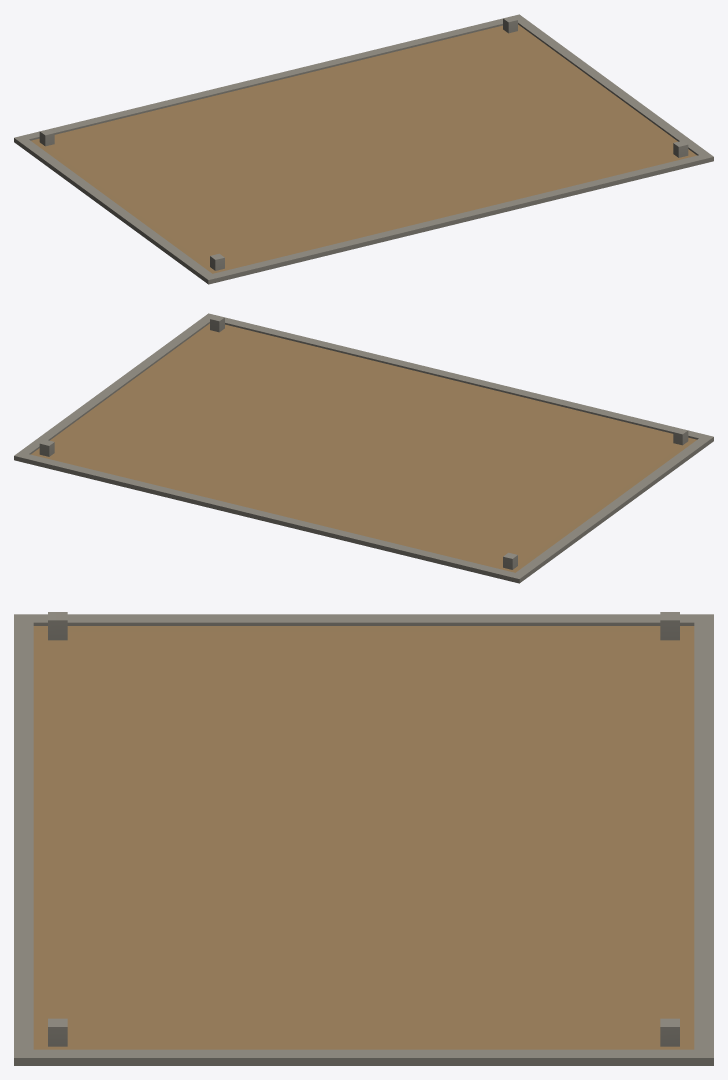
File: independence_parade_ground_lod1.glb
The picture shows the model from 3 angles, top to bottom: view 1: azimuth 30°, elevation 25°; view 2: azimuth 150°, elevation 25°; view 3: azimuth 270°, elevation 25°; orthographic projection. The views are drawn at different scales.
Parts seen in each view (by area): view 1: GEO-Arch_independence_parade_ground_LOD1; view 2: GEO-Arch_independence_parade_ground_LOD1; view 3: GEO-Arch_independence_parade_ground_LOD1.
Part boxes in pixels (x1,y1,x2,y2): GEO-Arch_independence_parade_ground_LOD1: (14, 14, 713, 284); GEO-Arch_independence_parade_ground_LOD1: (14, 313, 713, 583); GEO-Arch_independence_parade_ground_LOD1: (14, 612, 713, 1065).
Size of the model in its own units: 24.01 by 0.6214 by 16.01.
